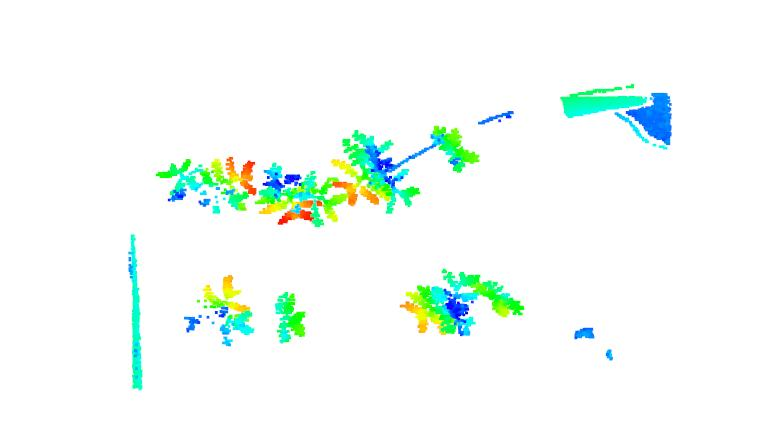chickpea: (402, 270, 524, 341), (330, 128, 415, 214), (260, 159, 342, 232), (181, 275, 257, 348), (164, 153, 256, 213), (424, 125, 480, 174), (274, 293, 307, 343)
